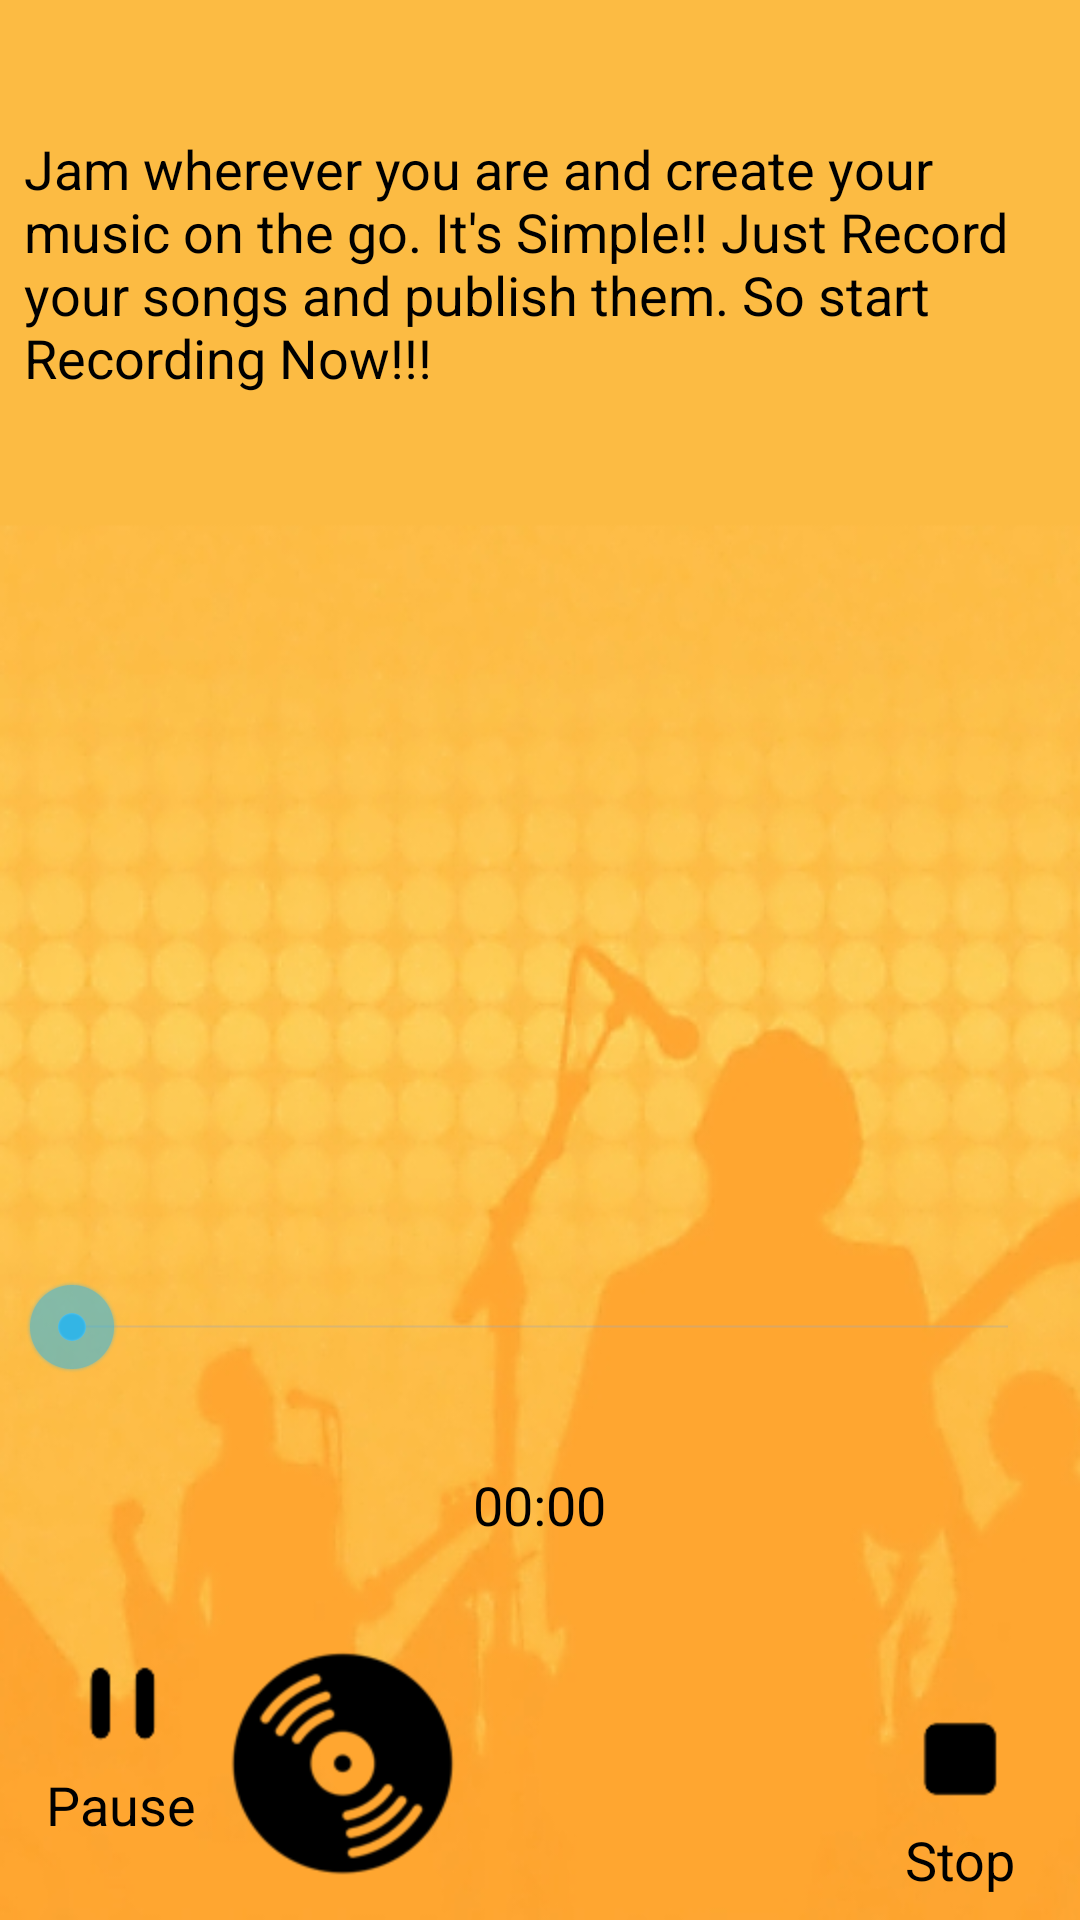

Named icons in this screenshot (1080 × 1920) and their centers, (x,y):
rec: (342,1757)
